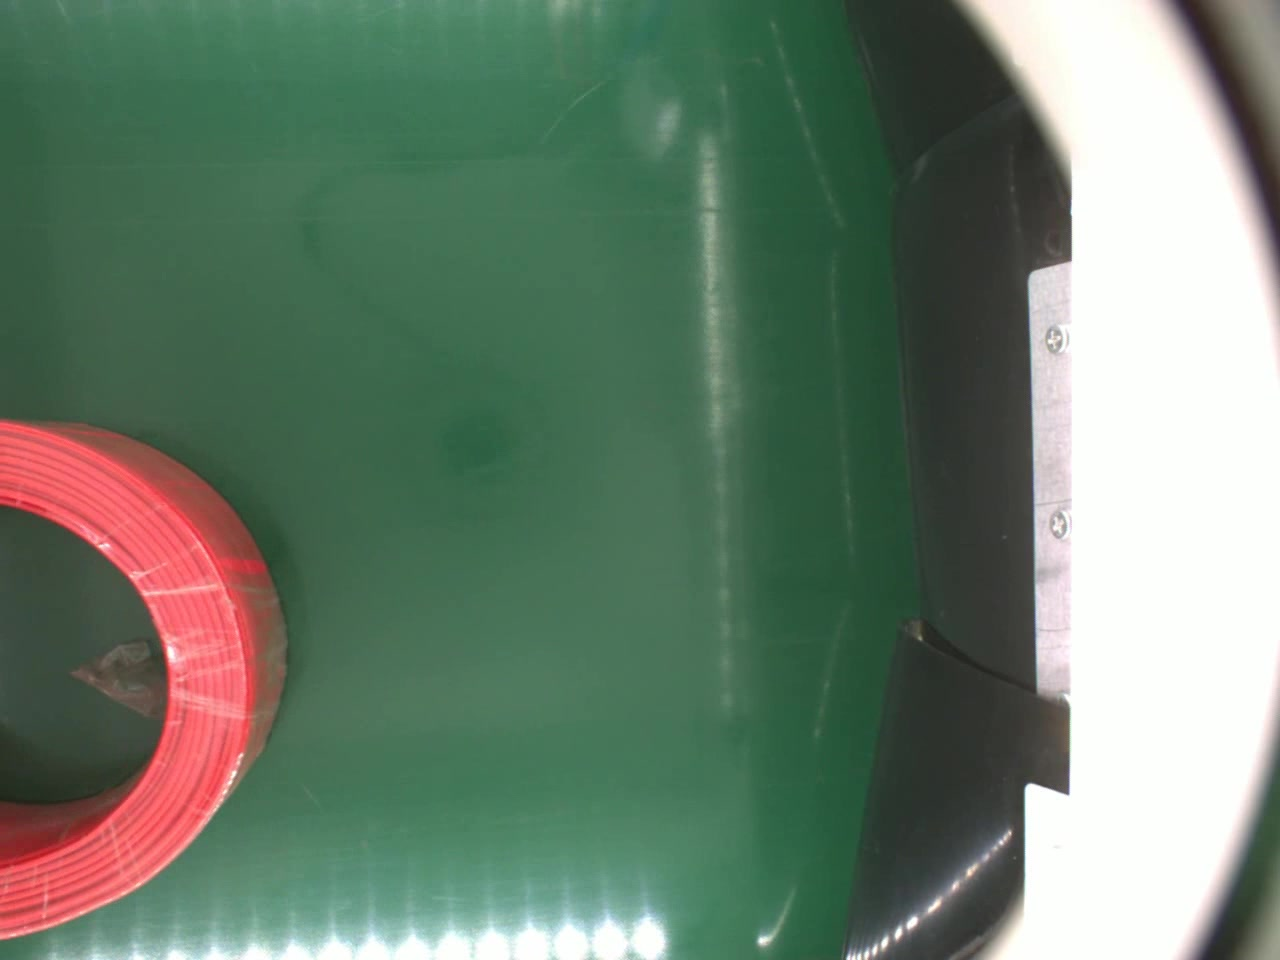red: (0, 416, 290, 947)
